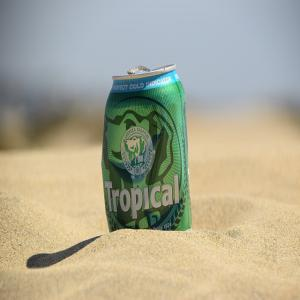Can: (102, 63, 194, 231)
